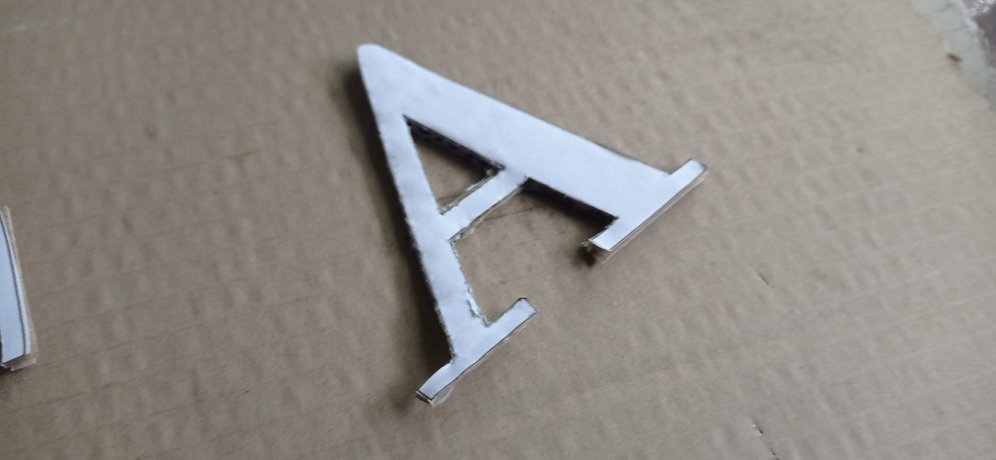a: (355, 41, 712, 411)
